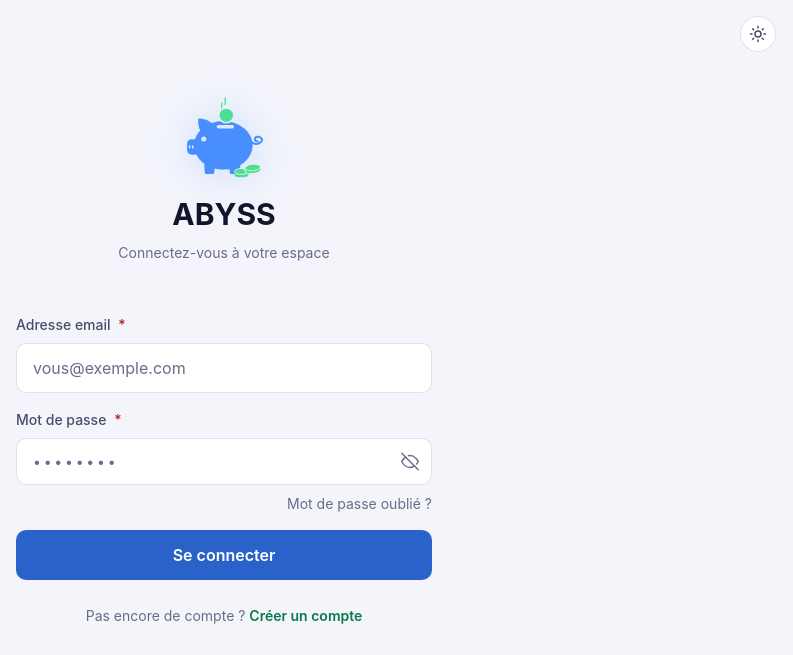
Test: LoginPage — validation › signale le seul champ manquant
This screenshot has width=793, height=655.
In the field with id "login-email": (224, 368) left=16, top=343, right=432, bottom=393, type "alice@example.com"
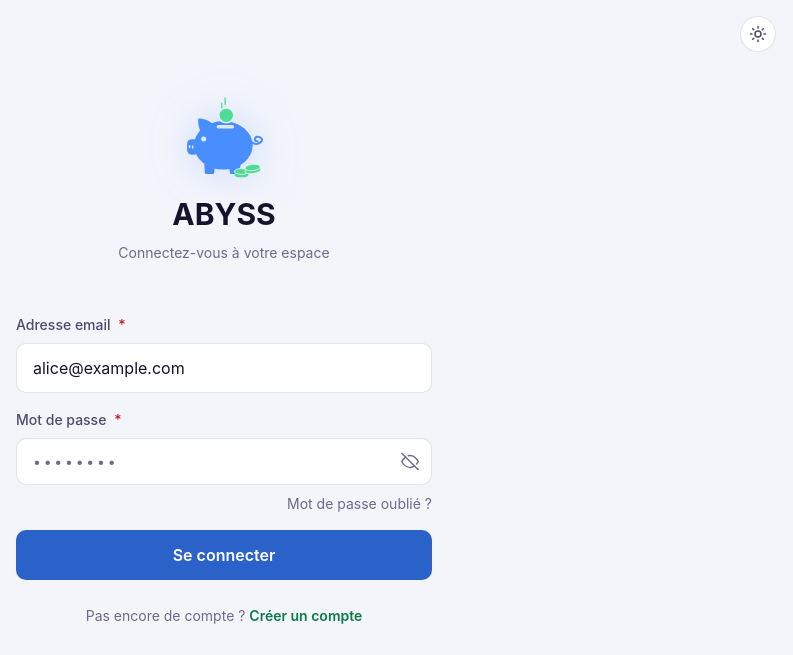
Submit the form, box left=16, top=314, right=432, bottom=580
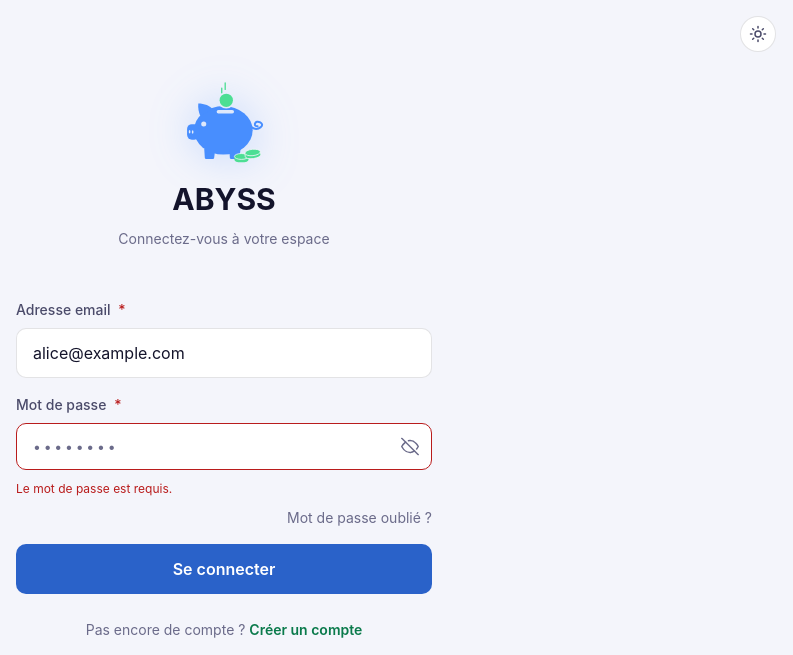
Check: the text "Le mot de passe est requis." is shown, box left=16, top=481, right=172, bottom=496
